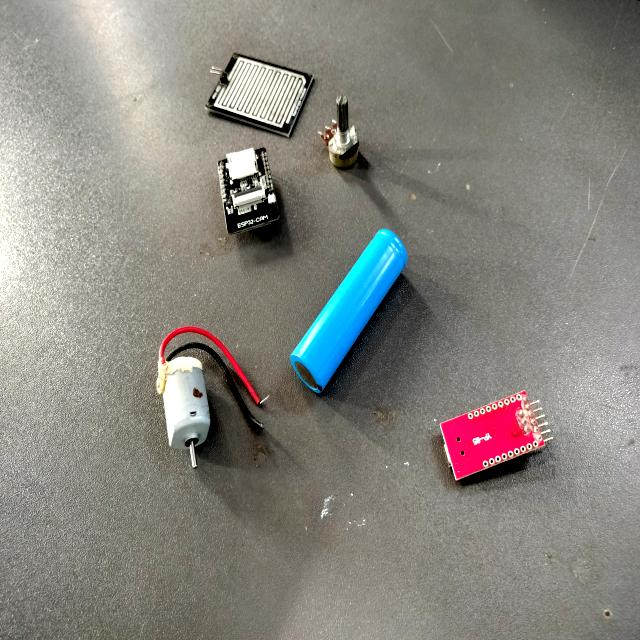3-3-Volt-Battery: (281, 216, 412, 405)
DC-Motor: (141, 341, 230, 485)
ESP32-CAM: (197, 134, 297, 248)
FT-232-USB-Serial-Module: (423, 366, 560, 499)
Raindrops-Module: (187, 36, 319, 160)
Taper-Potentiometer: (312, 85, 367, 182)
